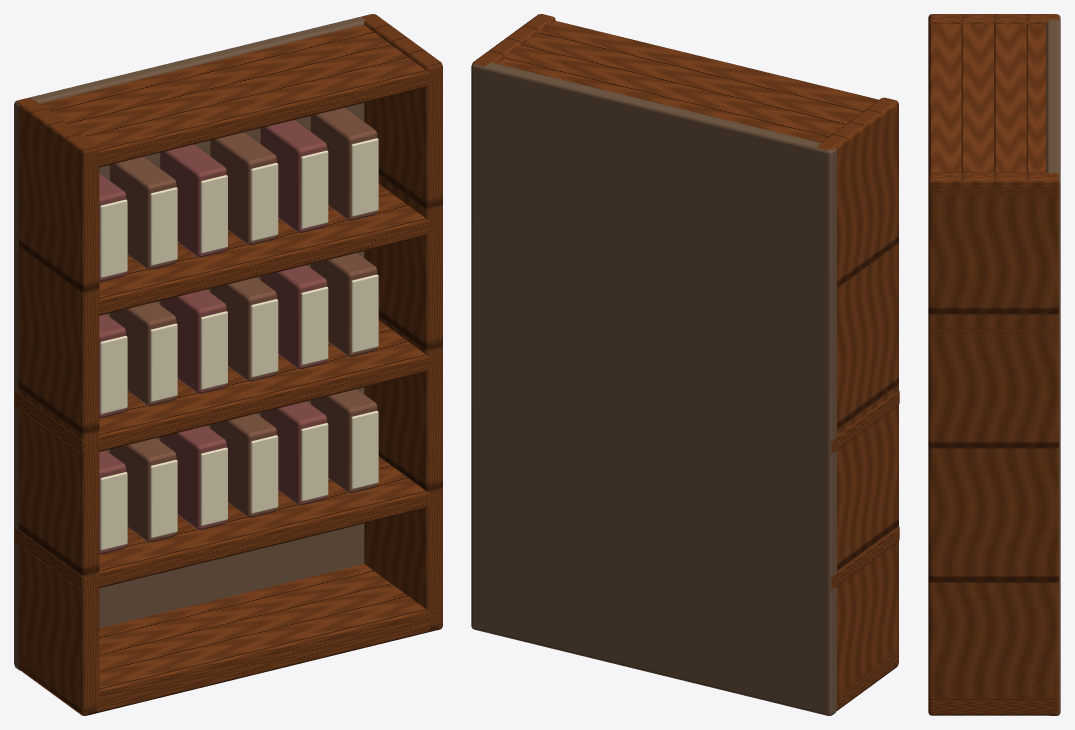
The model's file is adventurers-tavern-and-guild-hall-bookcase-3e7d1da0__24700.glb.
The picture shows the model from 3 angles, left to right: view 1: azimuth 30°, elevation 25°; view 2: azimuth 150°, elevation 25°; view 3: azimuth 270°, elevation 25°; orthographic projection. The views are drawn at different scales.
Visible parts, largest first — view 1: bookcase; view 2: bookcase; view 3: bookcase.
Boxes of the visible parts, <box> form: bookcase: <box>14,14,442,715</box>; bookcase: <box>471,14,899,715</box>; bookcase: <box>928,14,1060,715</box>.
Bounding box in the file's own units: 1.2 × 1.8 × 0.4025.
Materials: 5 (1 with a texture image).
